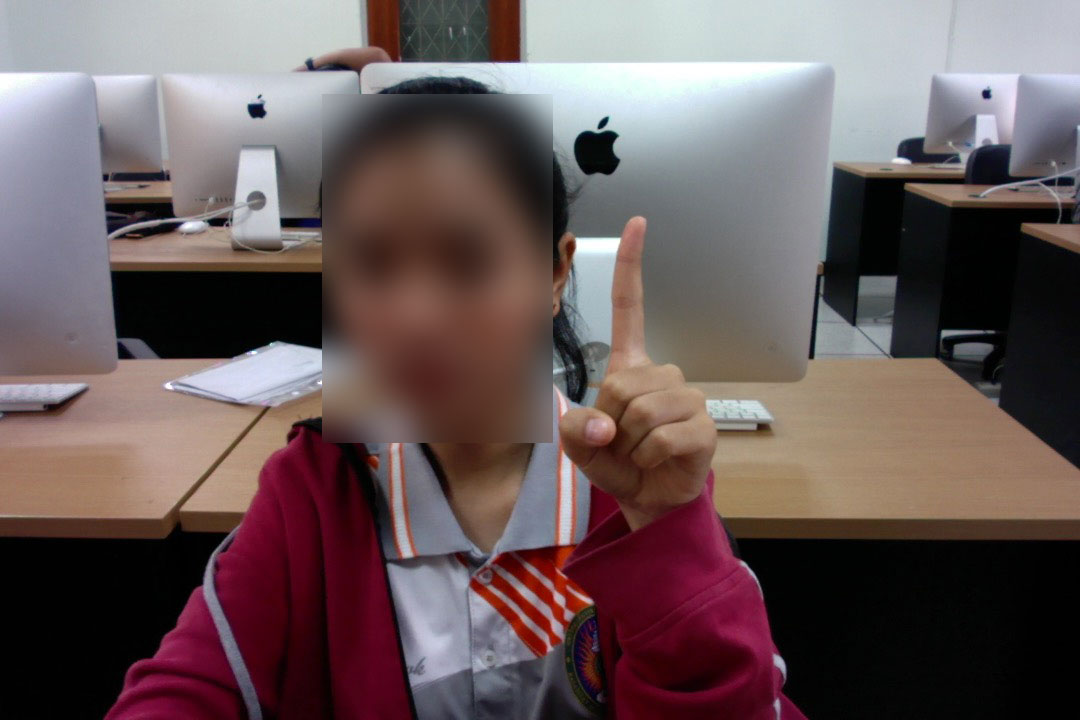lor: (541, 207, 735, 533)
